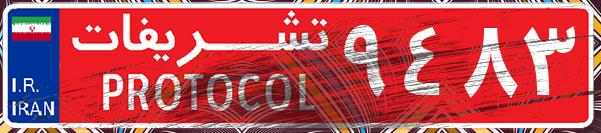3: (520, 20, 580, 115)
4: (400, 20, 460, 115)
8: (460, 20, 520, 115)
9: (340, 20, 400, 115)
تشریفات: (60, 8, 340, 125)
